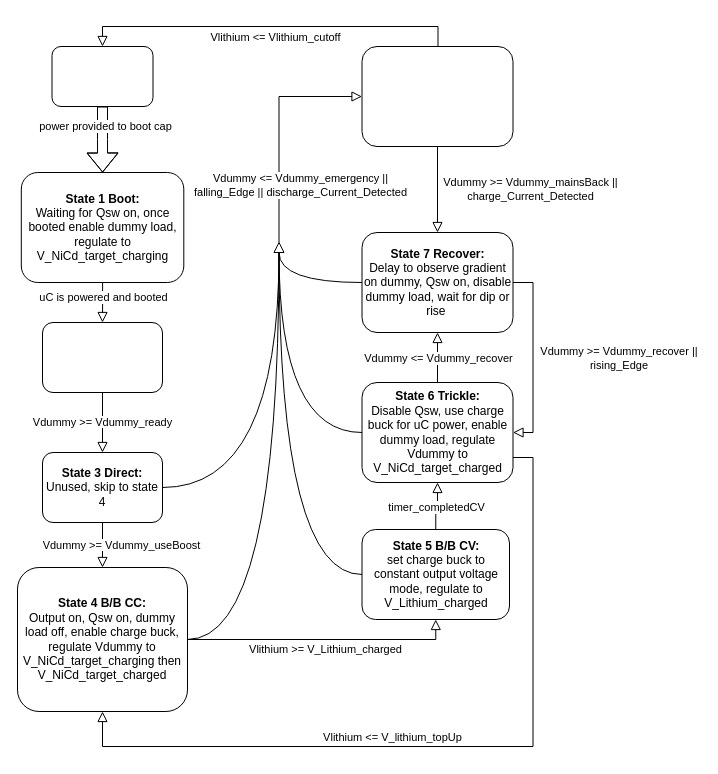
This 718x774 diagram has some shape labels left out. The shapes that lost their labels are listed below. From the top down, each one's box as (x1, y1, x2, y2) in pixels, then its label:
(51, 46, 153, 106): State 9 Off: Everything off, uC dies
(361, 46, 513, 146): State 8 Emergency: Qsw on, bypass on, direct connection
(42, 322, 162, 392): State 2 Prepare: Buck FETs on, dummy load on, wait for Vdummy to rise
